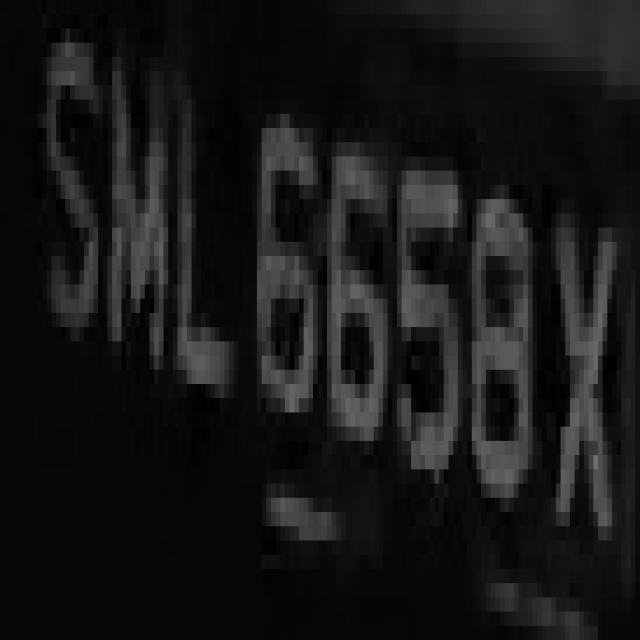5: (392, 71, 458, 526)
6: (318, 85, 392, 498), (252, 71, 318, 441)
8: (458, 128, 542, 526)
L: (168, 71, 238, 455)
M: (89, 71, 173, 413)
S: (32, 0, 93, 341)
X: (542, 157, 621, 583)
